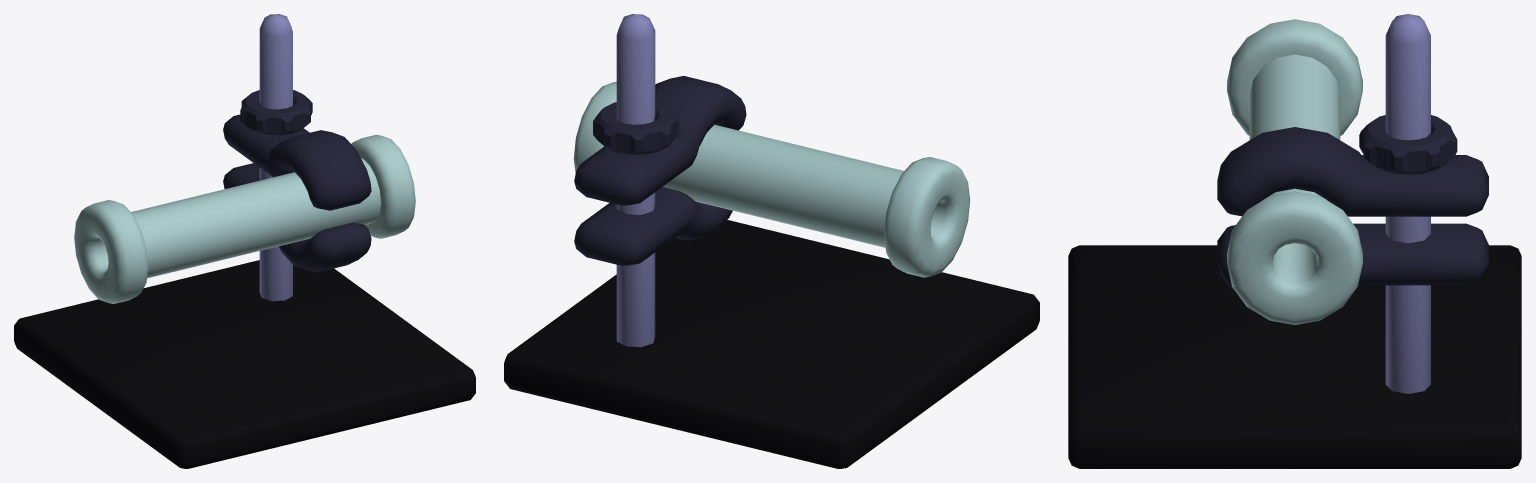
File: LastLuna_Model_Station_Pipe.fbx
3 views of the same model, side by side, from view 1: azimuth 30°, elevation 25°; view 2: azimuth 150°, elevation 25°; view 3: azimuth 270°, elevation 25° (orthographic). The views are drawn at different scales.
Visible parts, largest first — view 1: Stand_Base_Small001, Pipe001, Pipe_Arm_Clamp001, Stand_Pole_Small001, Pipe_Arm_Clamp_Handle001; view 2: Stand_Base_Small001, Pipe001, Pipe_Arm_Clamp001, Stand_Pole_Small001, Pipe_Arm_Clamp_Handle001; view 3: Stand_Base_Small001, Pipe001, Pipe_Arm_Clamp001, Stand_Pole_Small001, Pipe_Arm_Clamp_Handle001.
Part boxes in pixels (bbox=[...]): Stand_Base_Small001: bbox=[14, 260, 475, 468]; Pipe001: bbox=[74, 134, 415, 303]; Pipe_Arm_Clamp001: bbox=[223, 114, 371, 272]; Stand_Pole_Small001: bbox=[259, 14, 292, 301]; Pipe_Arm_Clamp_Handle001: bbox=[240, 90, 312, 135]; Stand_Base_Small001: bbox=[504, 220, 1039, 468]; Pipe001: bbox=[573, 82, 970, 277]; Pipe_Arm_Clamp001: bbox=[574, 76, 746, 265]; Stand_Pole_Small001: bbox=[616, 14, 655, 347]; Pipe_Arm_Clamp_Handle001: bbox=[593, 102, 679, 154]; Stand_Base_Small001: bbox=[1068, 245, 1521, 468]; Pipe001: bbox=[1227, 19, 1362, 324]; Pipe_Arm_Clamp001: bbox=[1217, 127, 1488, 290]; Stand_Pole_Small001: bbox=[1385, 14, 1430, 393]; Pipe_Arm_Clamp_Handle001: bbox=[1359, 115, 1457, 174].
Size of the model in its own units: 39.37 by 39.37 by 39.37.
